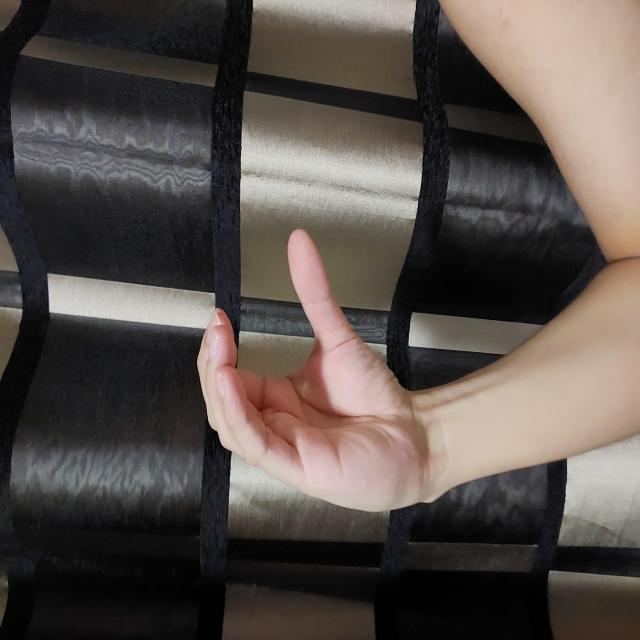C: (126, 195, 414, 431)
